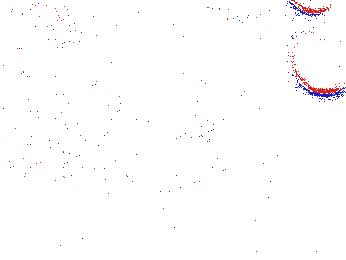moon jellyfish: (208, 19, 278, 99), (133, 71, 227, 130), (292, 114, 346, 215), (71, 12, 181, 59), (286, 29, 346, 96)
